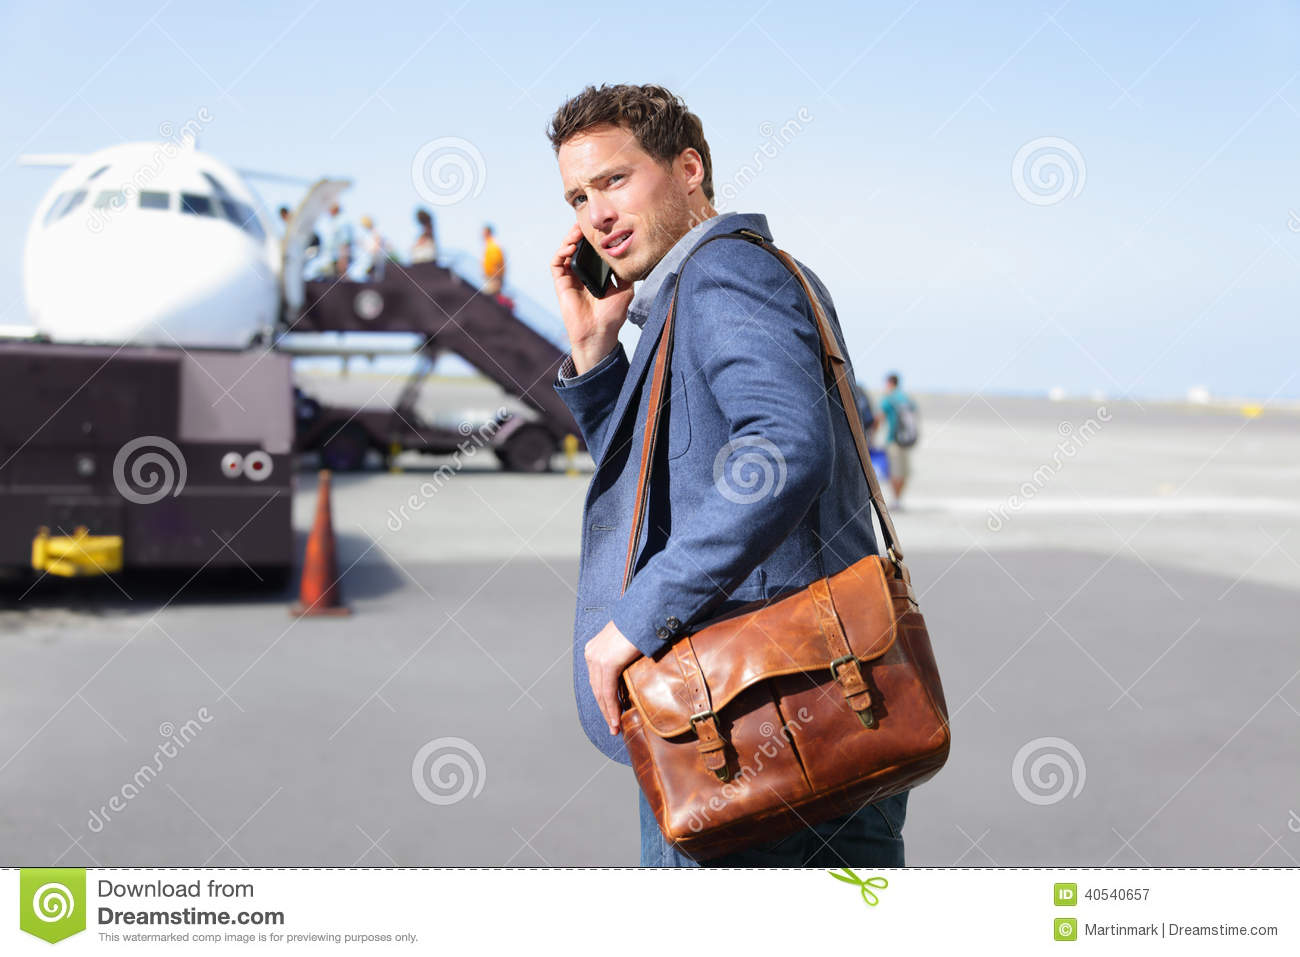talk: (555, 163, 651, 345)
